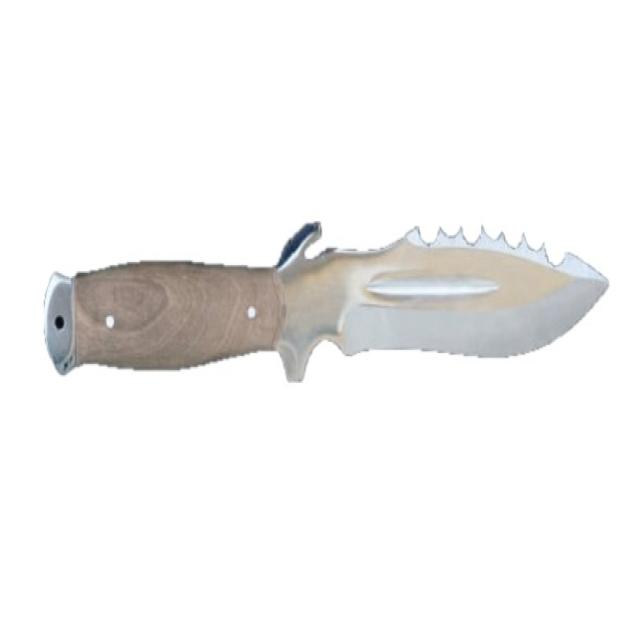knife: (36, 204, 621, 408)
